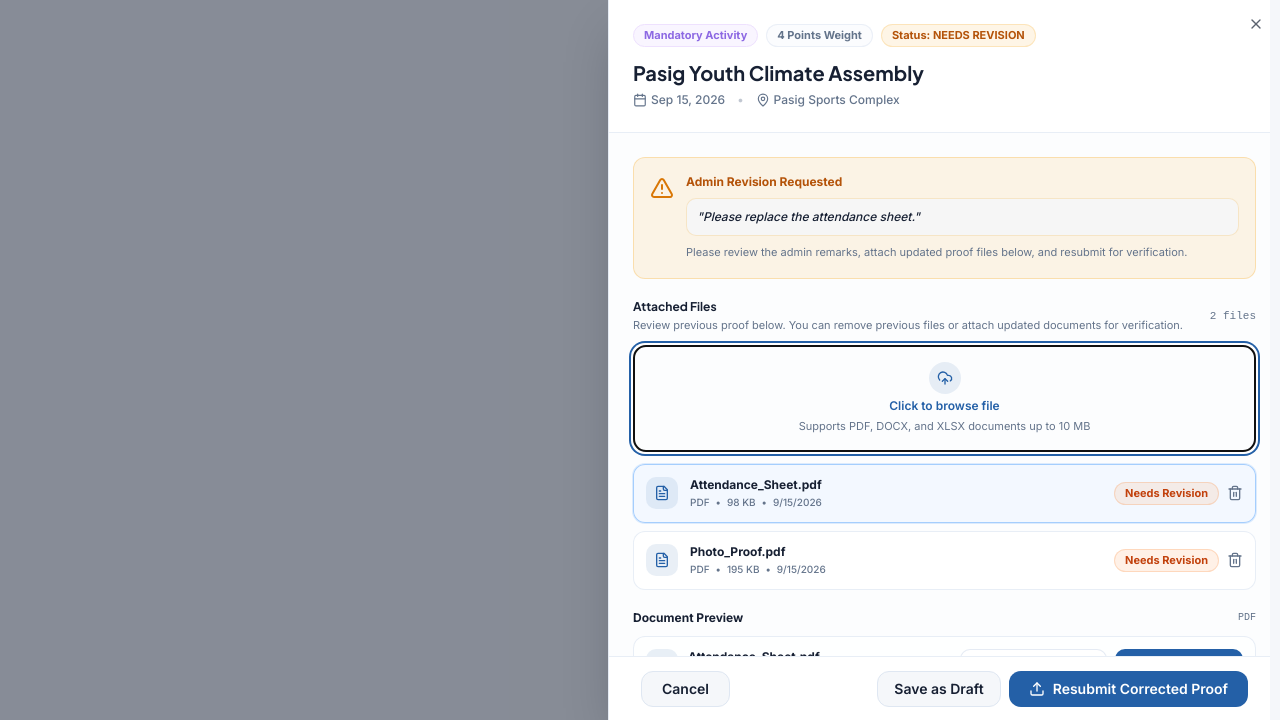
it: YPOP Needs Revision File Replacement UX Suite › 1. City-Led Activity Workflow › TEST 3: Multi-file isolation in City-Led: Removing one file does not affect the other file
The image size is (1280, 720).
Expected: the text "Attendance_Sheet.pdf" is shown, [690, 477, 822, 492]
Expected: the text "Photo_Proof.pdf" is shown, [690, 544, 786, 559]
// Find the remove button for Attendance_Sheet.pdf
What coordinates should you click on to do the following:
click the 1st button titled "Remove file"
I would click on:
 (1235, 493)
Its box is [1227, 485, 1243, 501].
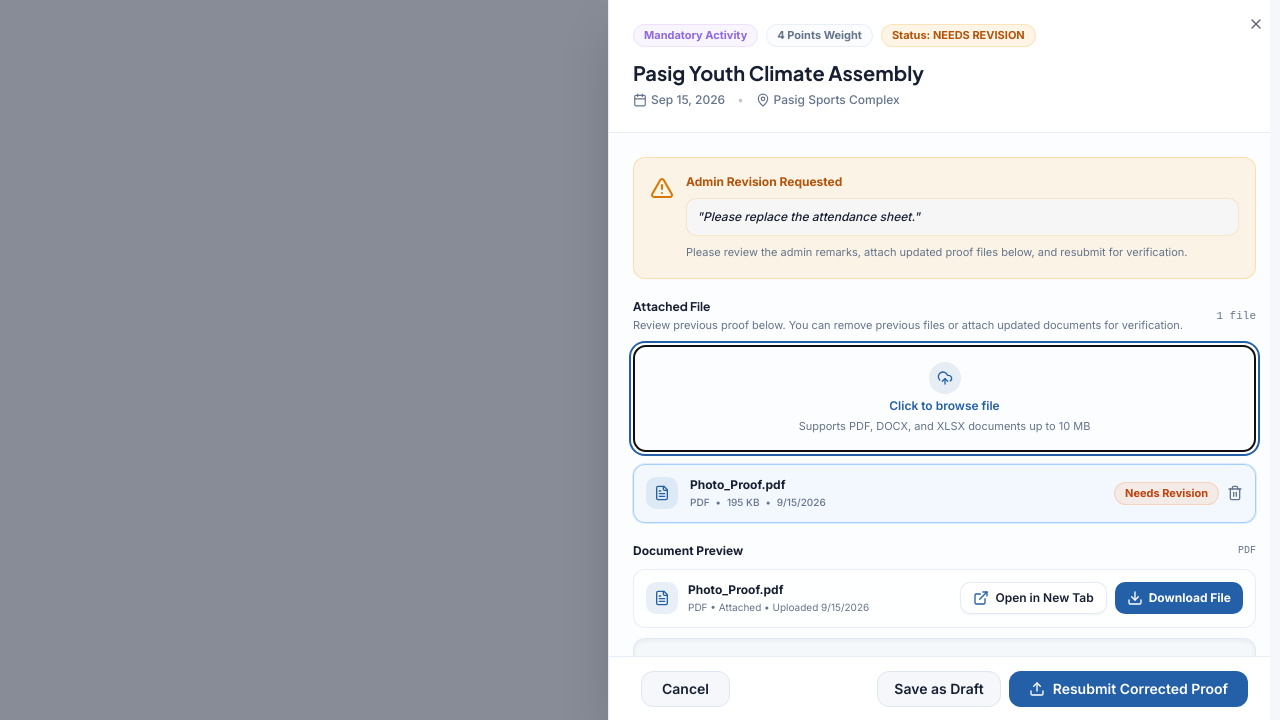
Expected: the 1st text "Photo_Proof.pdf" is shown, [690, 477, 786, 492]
Result: the button "Attendance_Sheet.pdf" is gone
